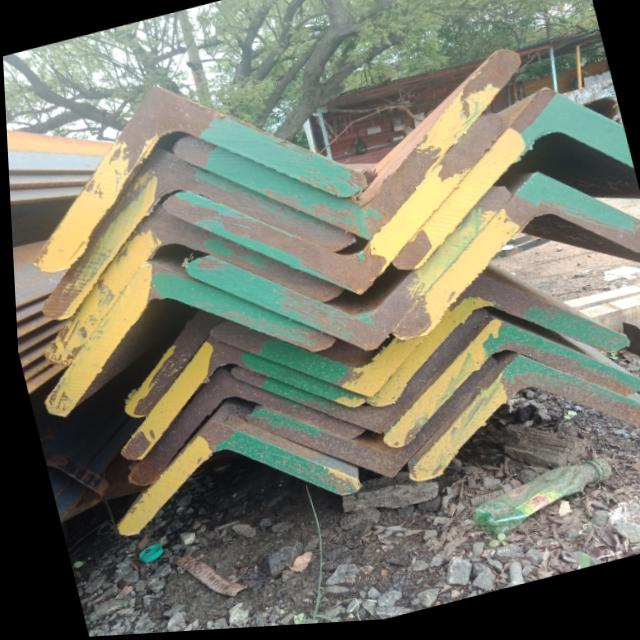metal-angles: (170, 55, 519, 244), (162, 119, 506, 301), (30, 88, 366, 274), (40, 149, 352, 321), (183, 192, 510, 354), (41, 205, 340, 364), (42, 264, 333, 416), (389, 95, 631, 275), (388, 178, 640, 344), (363, 279, 626, 410), (380, 324, 639, 453), (226, 315, 485, 437), (117, 338, 366, 461), (241, 363, 495, 482), (410, 363, 640, 485), (125, 370, 362, 487), (112, 423, 355, 536), (208, 325, 422, 401)
